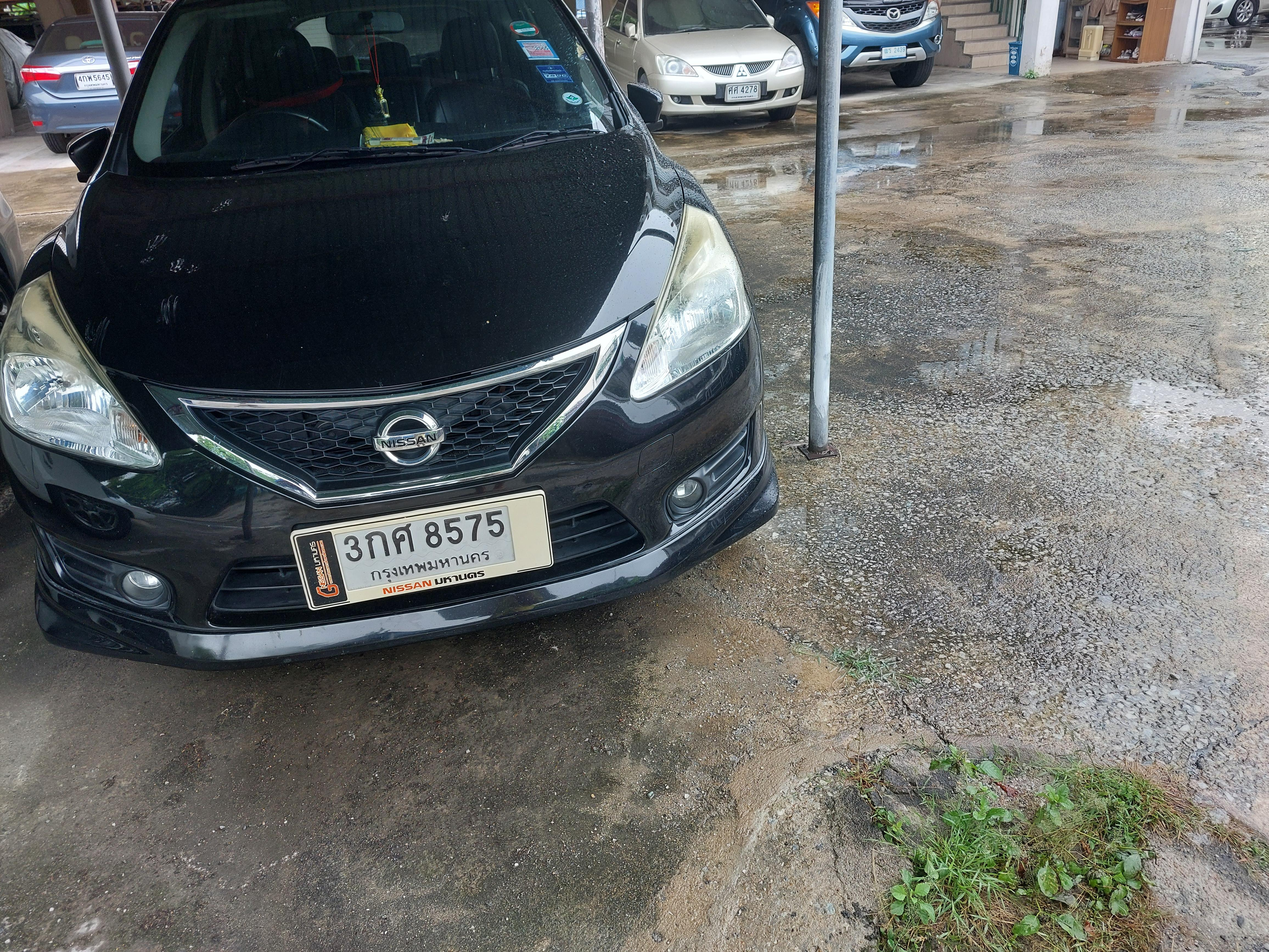license-plate: (290, 487, 558, 616)
